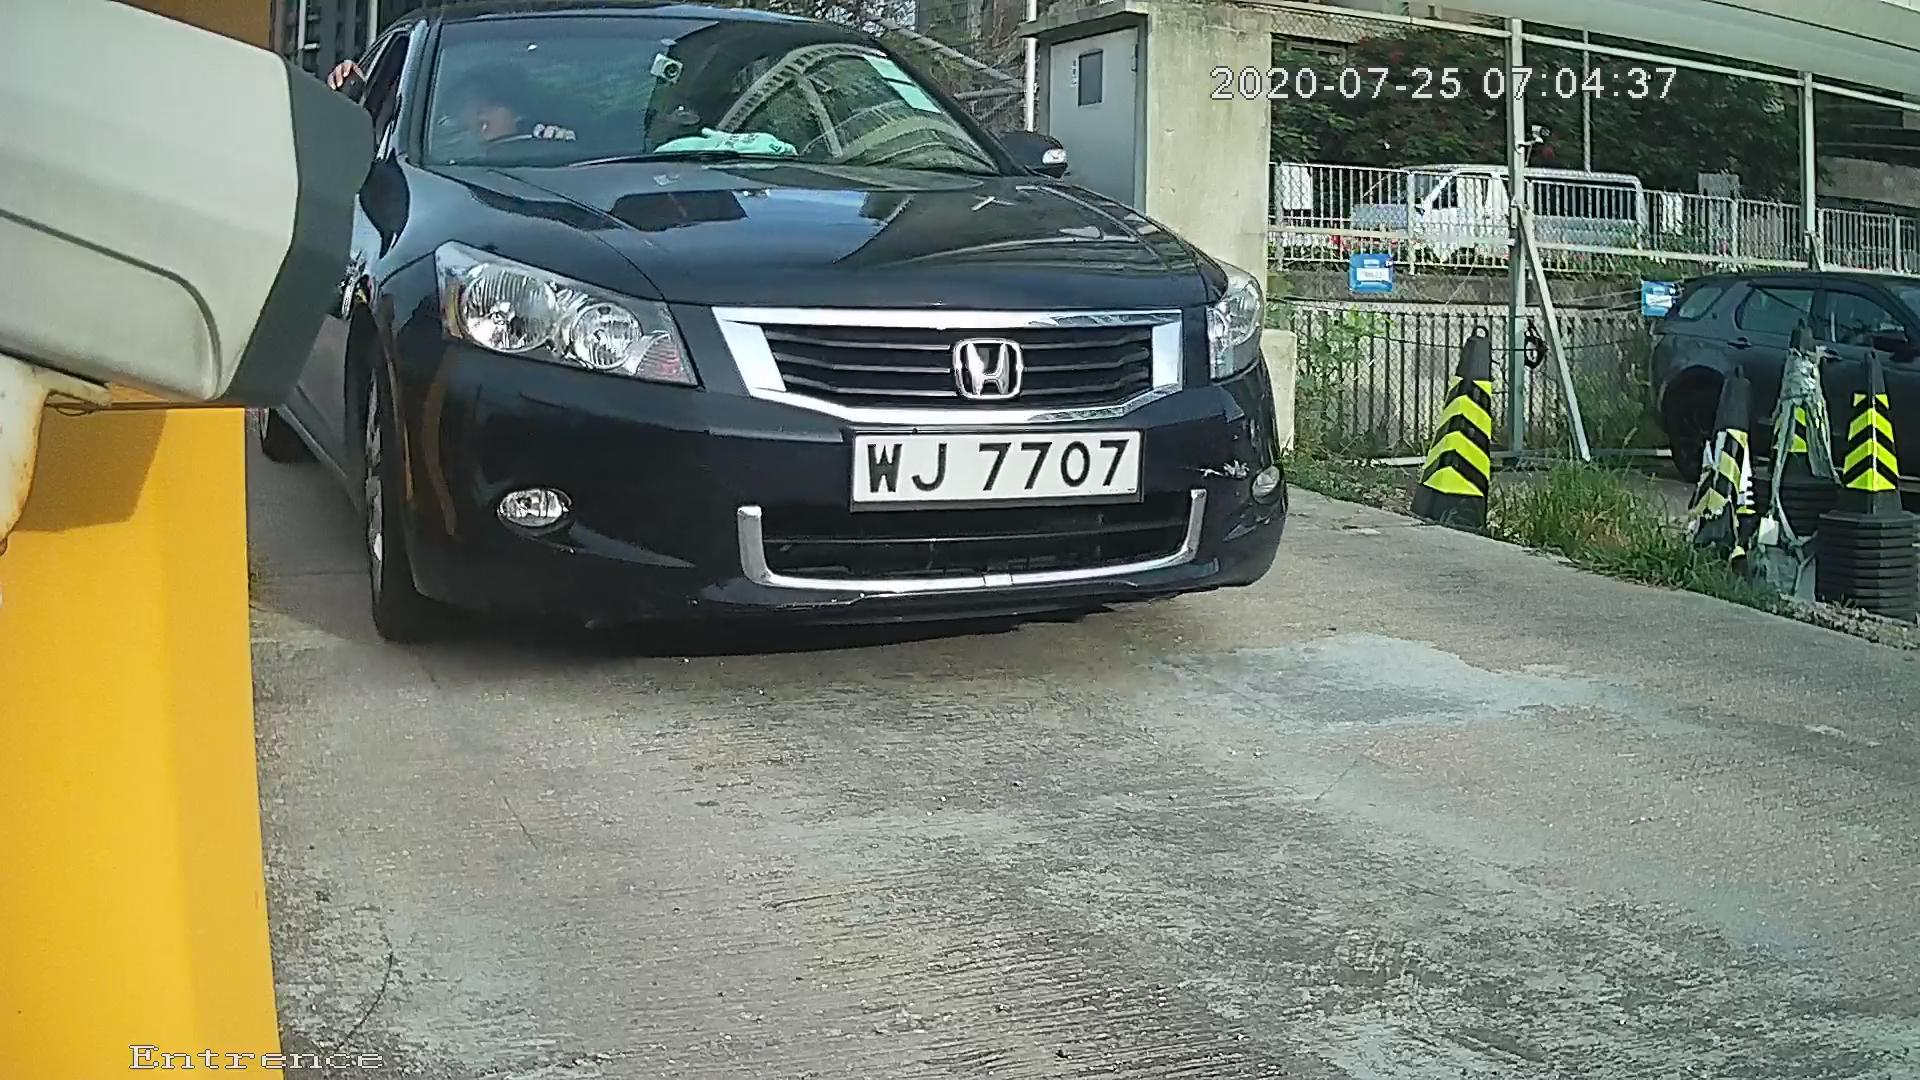Car: (138, 1, 1441, 700)
License Plate: (841, 415, 1149, 516)
